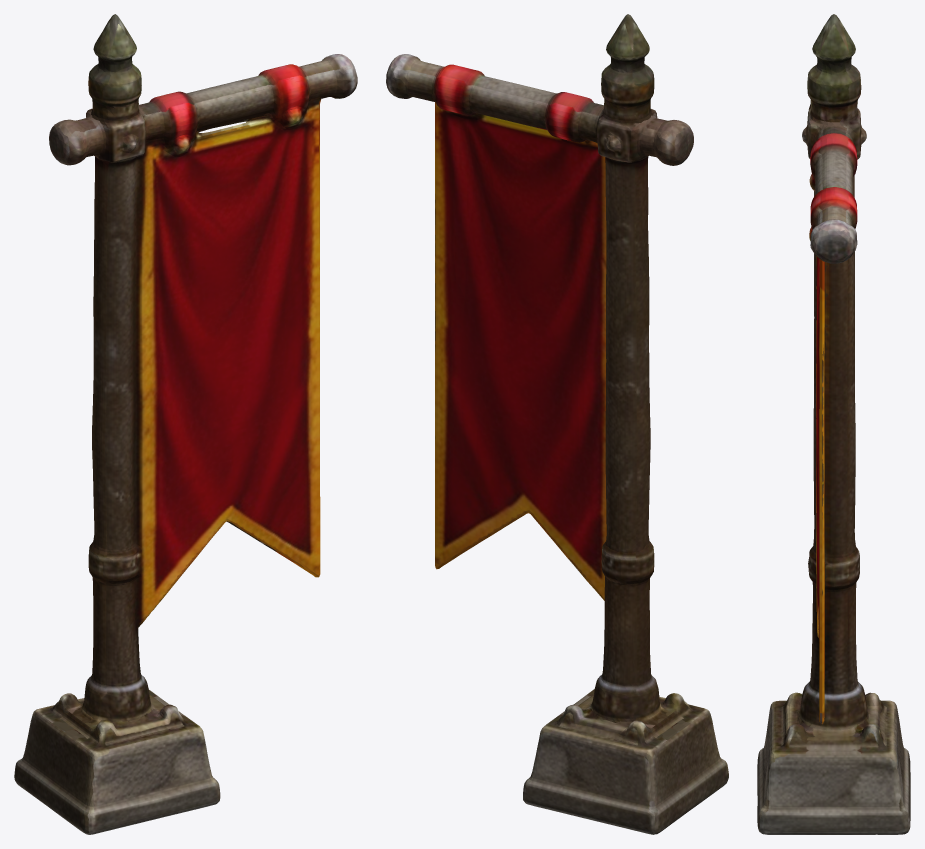
File: arena_banner_1117.glb
3 renders of one model, left to right at view 1: azimuth 30°, elevation 25°; view 2: azimuth 150°, elevation 25°; view 3: azimuth 270°, elevation 25°, orthographic.
Parts seen in each view (by area): view 1: tmpkasfdahh.ply; view 2: tmpkasfdahh.ply; view 3: tmpkasfdahh.ply.
Part boxes in pixels (x1=…): tmpkasfdahh.ply: x1=14, y1=14, x2=357, y2=834; tmpkasfdahh.ply: x1=386, y1=14, x2=728, y2=834; tmpkasfdahh.ply: x1=757, y1=14, x2=910, y2=834.
Size of the model in its own units: 0.4039 by 1 by 0.1759.
1 material, 1 textured.
